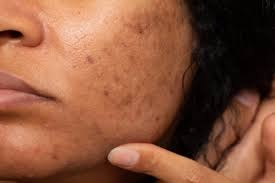Melasma: (125, 0, 176, 29)
